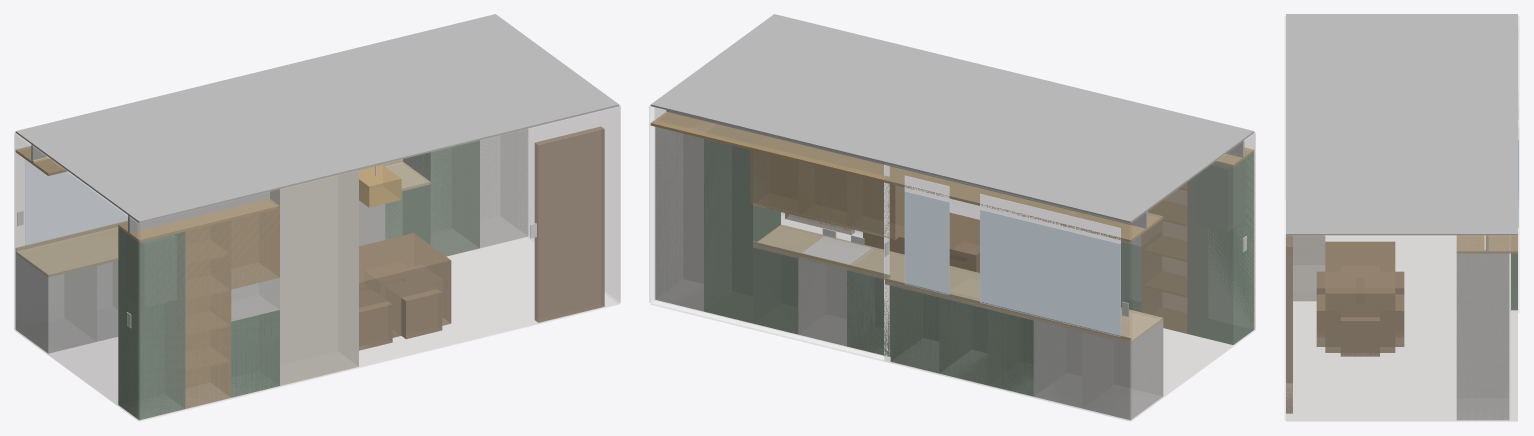
Rendered from cocina.obj.
3 views of the same model, side by side, from view 1: azimuth 30°, elevation 25°; view 2: azimuth 150°, elevation 25°; view 3: azimuth 270°, elevation 25° (orthographic). The views are drawn at different scales.
Parts seen in each view (by area): view 1: Pared Sur, Techo, Pared Oeste, Columna azulejo, Puerta, Suelo, Caldera, Vitrina, Lavadora, Mesa comedor, Escobero, Frigorífico (+16 smaller); view 2: Techo, Pared Norte izq, Pared Norte der, Pared Oeste, Ventana grande, Caldera, Escobero, Frigorífico, Cornisa Norte, Cajones, Lavadora, Vitrina (+21 smaller); view 3: Techo, Pared Este, Suelo, Frigorífico, Mesa comedor, Columna azulejo, Silla 6, Puerta, Cornisa Norte, Pared Sur, Pared Norte izq, Silla 2 (+4 smaller).
Part boxes in pixels (x1,y1,x2,y2): Pared Sur: (139,106,619,420); Techo: (15,14,619,223); Pared Oeste: (14,133,138,420); Columna azulejo: (270,169,358,385); Puerta: (534,126,604,322); Suelo: (16,237,618,421); Caldera: (118,227,185,420); Vitrina: (185,220,231,408); Lavadora: (15,254,96,353); Mesa comedor: (359,233,451,337); Escobero: (403,140,479,256); Frigorífico: (480,128,528,248); Techo: (650,14,1254,223); Pared Norte izq: (884,163,1130,420); Pared Norte der: (654,107,888,356); Pared Oeste: (1131,133,1255,420); Ventana grande: (980,210,1120,336); Caldera: (1187,152,1254,344); Escobero: (704,138,780,323); Frigorífico: (655,127,703,311); Cornisa Norte: (650,111,1163,242); Cajones: (847,270,939,373); Lavadora: (1082,320,1163,420); Vitrina: (1141,182,1187,333); Techo: (1286,14,1517,235); Pared Este: (1286,235,1517,420); Suelo: (1286,236,1517,421); Frigorífico: (1456,253,1509,420); Mesa comedor: (1325,241,1395,352); Columna azulejo: (1293,235,1325,301); Silla 6: (1340,317,1379,356); Puerta: (1286,235,1292,413); Cornisa Norte: (1456,235,1517,253); Pared Sur: (1284,16,1285,419); Pared Norte izq: (1518,16,1519,312); Silla 2: (1316,294,1325,346).
Bounding box in the file's own units: 5.98 × 2.37 × 2.69.
